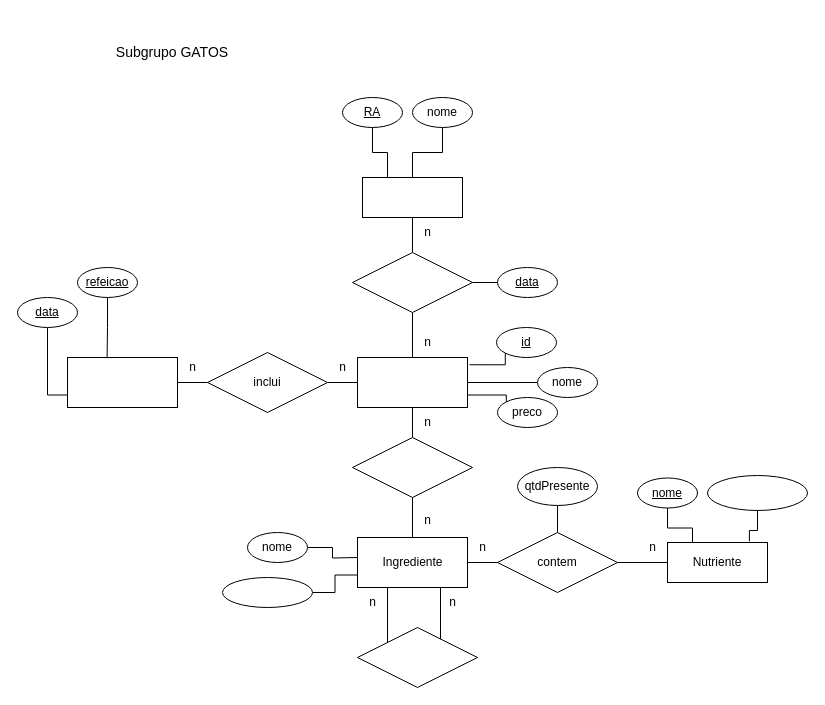
This 825x705 diagram has some shape labels left out. The box of each missing label's shape, as (x1, y1, x2, y2) in pixels:
Aluno: (362, 176, 462, 218)
Cardapio: (66, 356, 178, 408)
codigo: (222, 576, 312, 608)
compõe: (356, 626, 478, 688)
leva: (352, 436, 472, 498)
pede: (352, 252, 472, 312)
Porcao: (356, 356, 468, 408)
valorReferencia: (706, 474, 808, 510)
